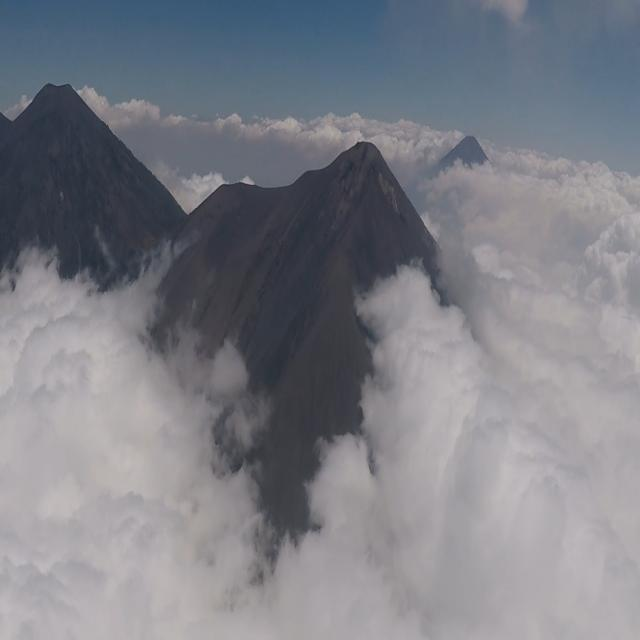Summit: (286, 138, 426, 232)
